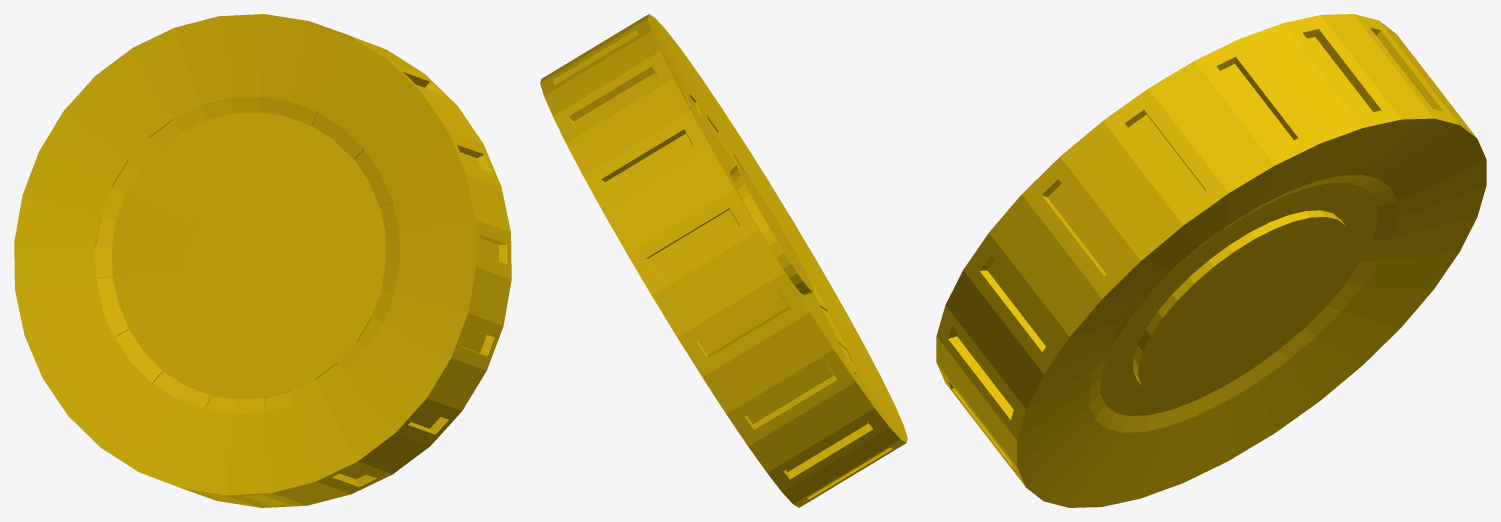
Rendered from Gold coin.fbx.
The picture shows the model from 3 angles, left to right: view 1: azimuth 30°, elevation 25°; view 2: azimuth 150°, elevation 25°; view 3: azimuth 270°, elevation 25°; orthographic projection. The views are drawn at different scales.
Visible parts, largest first — view 1: Coin; view 2: Coin; view 3: Coin.
Part boxes in pixels (left/top/right/bottom): Coin: left=14, top=14, right=511, bottom=507; Coin: left=540, top=14, right=907, bottom=507; Coin: left=936, top=14, right=1486, bottom=507.
Bounding box in the file's own units: 123 × 133 × 130.
